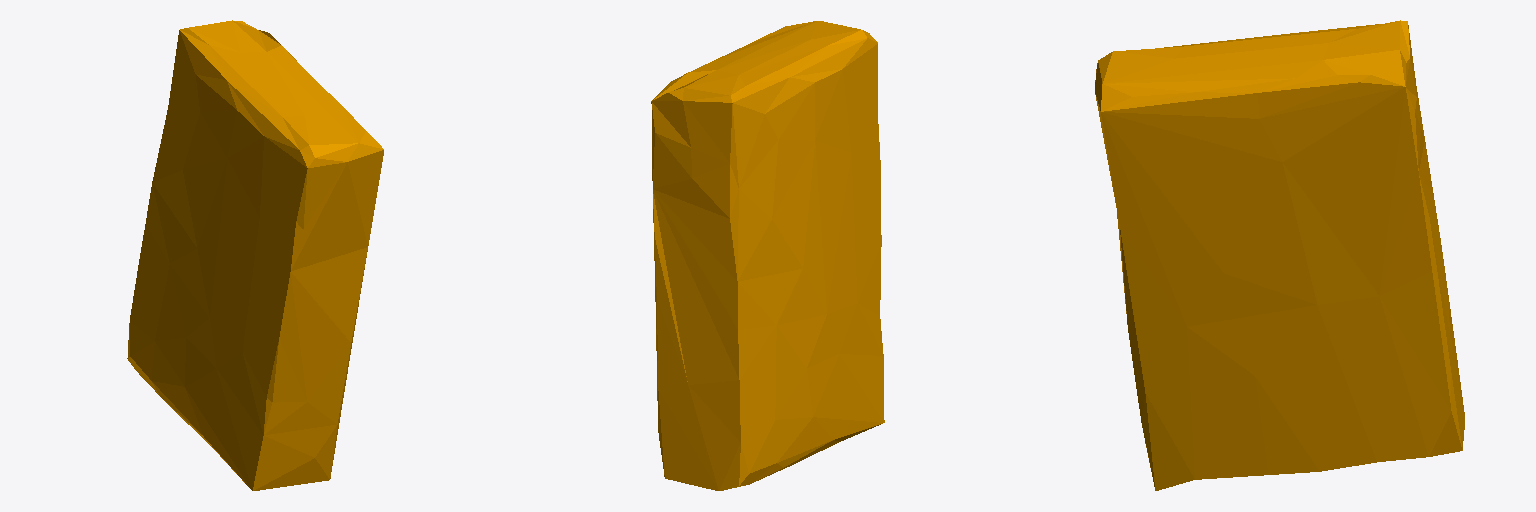
robot.urdf — PatchesSensitive_800_tex:
<?xml version="1.0"?>
<robot name="PatchesSensitive_800_tex">
  <link name="base_link">
    <contact>
      <lateral_friction value="1.0"/>
      <rolling_friction value="0.0"/>
      <contact_cfm value="0.0"/>
      <contact_erp value="1.0"/>
    </contact>
    <inertial>
      <mass value="0.0207298116484"/>
      <inertia ixx="1" ixy="0" ixz="0" iyy="1" iyz="0" izz="1"/>
    </inertial>
    <visual>
      <geometry>
        <mesh filename="PatchesSensitive_800_tex_visual.obj"/>
      </geometry>
    </visual>
    <collision>
      <geometry>
        <mesh filename="PatchesSensitive_800_tex_collision.obj"/>
      </geometry>
    </collision>
  </link>
</robot>

--- Facts derived from the render (not from the file) ---
The picture shows the robot from 3 angles, left to right: view 1: azimuth 30°, elevation 25°; view 2: azimuth 150°, elevation 25°; view 3: azimuth 270°, elevation 25°; orthographic projection.
Model PatchesSensitive_800_tex with 1 links and 0 joints (none), rooted at base_link, posed every joint at zero.
Links seen in each view (by area): view 1: base_link; view 2: base_link; view 3: base_link.
Boxes of the visible links, box(x1,y1,x2,y2) form: base_link: box(127, 20, 383, 490); base_link: box(651, 21, 884, 490); base_link: box(1095, 20, 1464, 490).
Size in the robot's own frame: 0.0186 by 0.0451 by 0.0603 metres.
Meshes: 1 distinct files referenced, 1 mesh visuals loaded (1 OBJ).